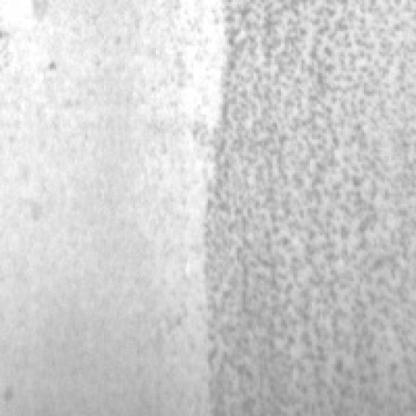pitted_surface: (196, 0, 414, 412)
